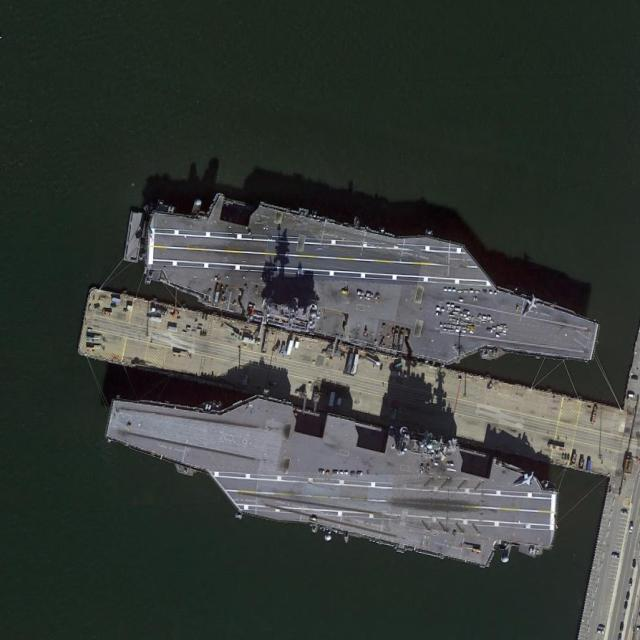plane: (512, 470, 537, 493)
ship: (114, 174, 608, 398), (97, 363, 571, 584)
small-vehicle: (624, 601, 629, 610), (626, 592, 631, 601), (630, 523, 634, 533), (612, 554, 619, 559), (621, 510, 629, 514), (621, 622, 624, 631), (630, 578, 633, 586), (597, 630, 605, 633), (598, 626, 606, 629), (629, 394, 635, 398), (633, 560, 636, 567)
